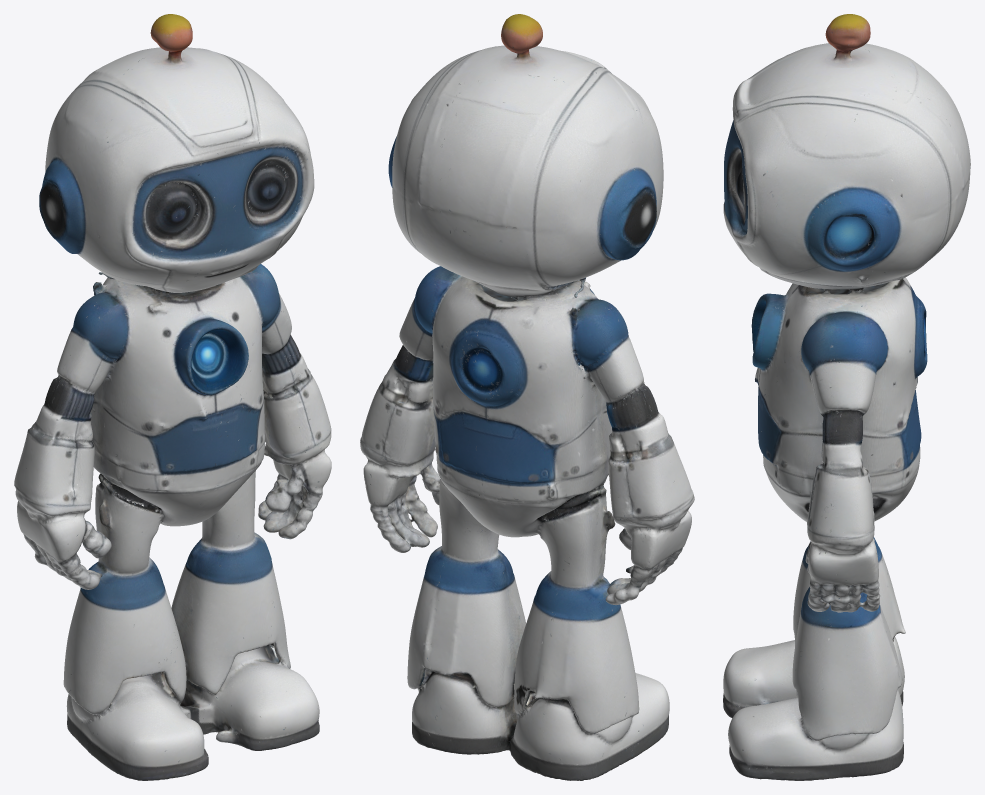
The model's file is robomind.glb.
The picture shows the model from 3 angles, left to right: view 1: azimuth 30°, elevation 25°; view 2: azimuth 150°, elevation 25°; view 3: azimuth 270°, elevation 25°; orthographic projection. The views are drawn at different scales.
Size of the model in its own units: 0.9093 by 2 by 0.6283.
Materials: 1 (1 with a texture image).
